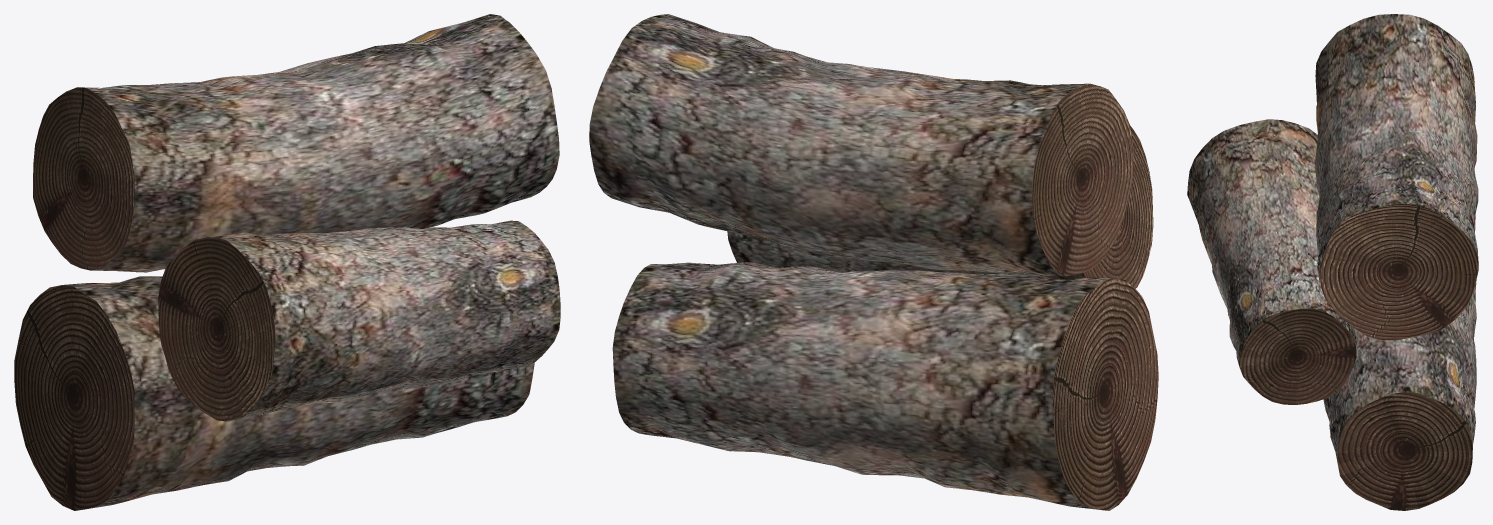
Rendered from logs.gltf.
3 renders of one model, left to right at view 1: azimuth 30°, elevation 25°; view 2: azimuth 150°, elevation 25°; view 3: azimuth 270°, elevation 25°, orthographic. The views are drawn at different scales.
Parts seen in each view (by area): view 1: Cylinder02, Cylinder03, Cylinder01; view 2: Cylinder01, Cylinder02, Cylinder03; view 3: Cylinder02, Cylinder03, Cylinder01.
Boxes of the visible parts, <box> form: Cylinder02: <box>33,14,559,272</box>; Cylinder03: <box>158,220,560,421</box>; Cylinder01: <box>14,276,534,510</box>; Cylinder01: <box>612,262,1158,510</box>; Cylinder02: <box>589,14,1134,276</box>; Cylinder03: <box>727,125,1153,288</box>; Cylinder02: <box>1315,14,1478,340</box>; Cylinder03: <box>1187,119,1356,404</box>; Cylinder01: <box>1323,280,1476,510</box>.
Bounding box in the file's own units: 595 × 519 × 401.
Materials: 2 (2 with a texture image).
